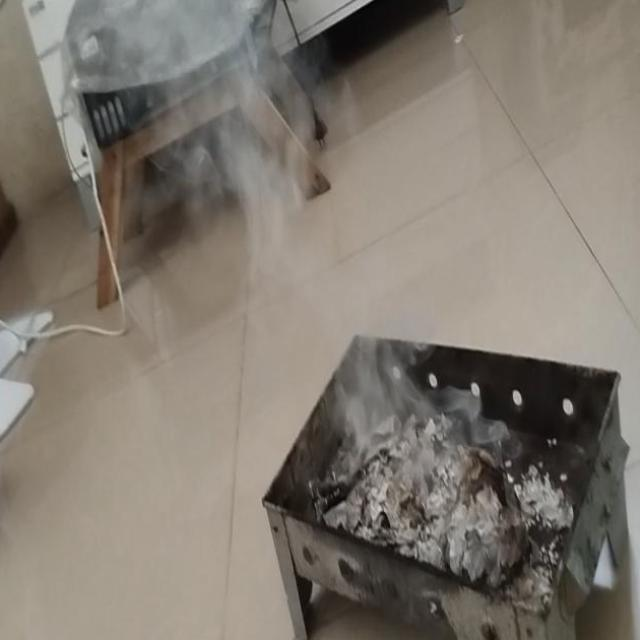fire: (140, 0, 305, 220), (332, 328, 414, 449)
